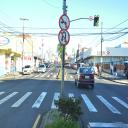NoVirarDireita: (89, 16, 93, 22)
NoVirarEsquerda: (59, 14, 70, 31)
NoVirarU: (58, 29, 70, 47)
